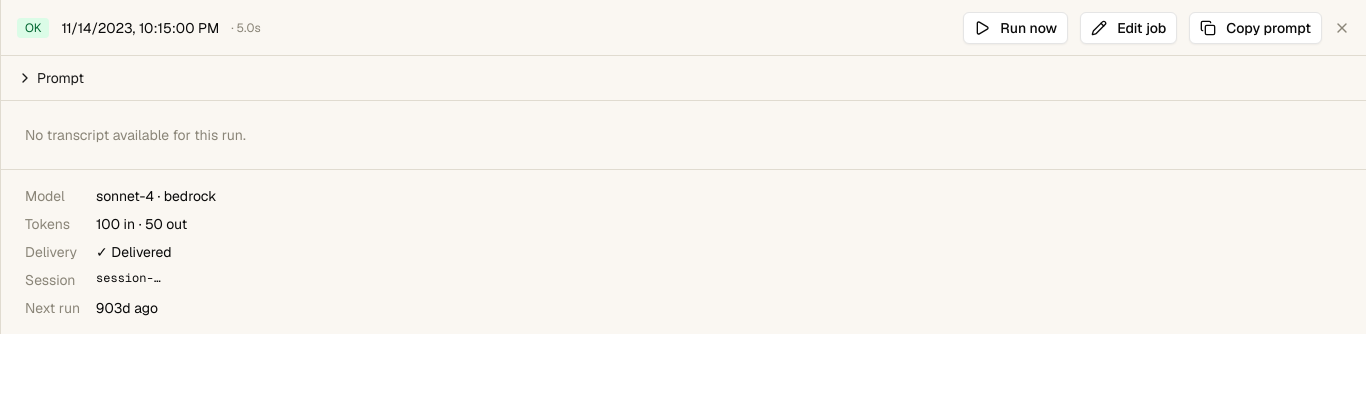
Scenario: RunDetailPanel › toggles the prompt accordion and shows the job payload message when no transcript user message
Click the button "Prompt".
click(50, 78)  # box [17,68,84,88]
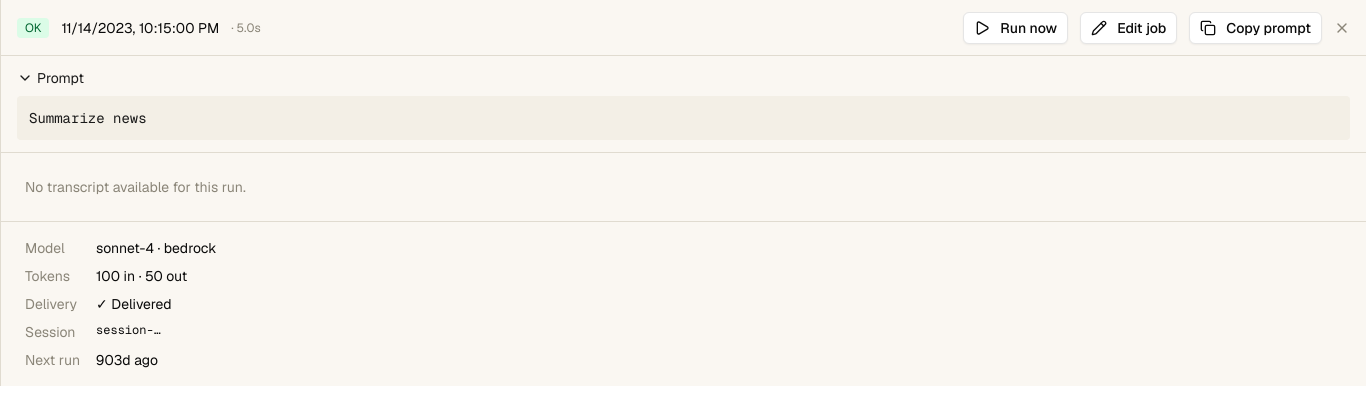
Expected: the button "Prompt" is expanded, [17,68,84,88]
Expected: the text "Summarize news" is shown, [17,96,1350,140]
